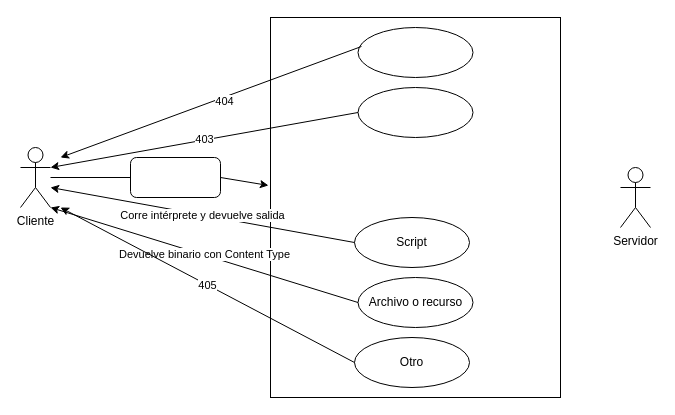
Some shapes in this 675 by 415 pixel diagram are drawn without their labels. The shapes that lost their labels are listed below. From the top down, each one's box as (x1, y1, x2, y2) in pixels, then its label:
(357, 26, 473, 78): Archivo inexistente
(357, 86, 473, 138): Directorio
(130, 156, 220, 198): Petición GET
